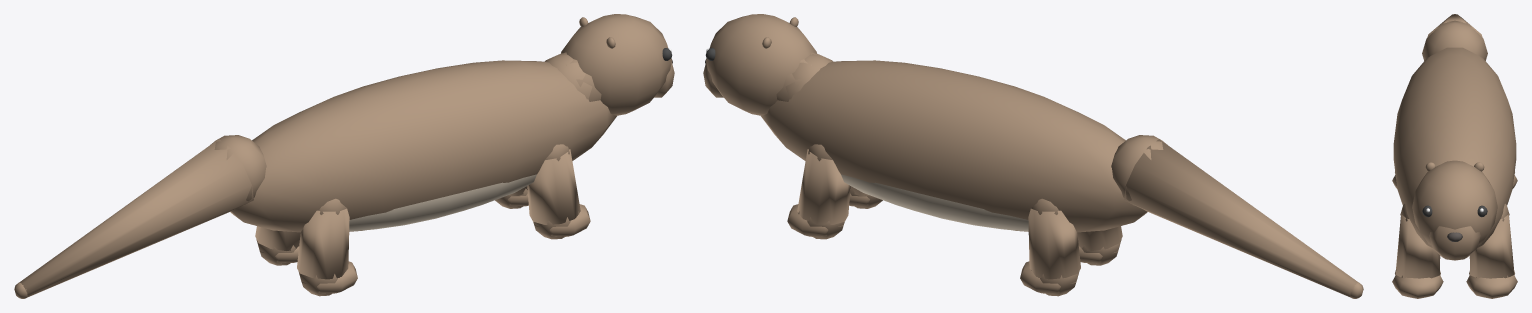
Rendered from eurasian-otter.glb.
3 views of the same model, side by side, from view 1: azimuth 30°, elevation 25°; view 2: azimuth 150°, elevation 25°; view 3: azimuth 270°, elevation 25° (orthographic). The views are drawn at different scales.
Visible parts, largest first — view 1: e, e.025, e.016; view 2: e, e.025, e.016; view 3: e, e.016, e.025.
Part boxes in pixels (x1,y1,x2,y2): e: (230, 52, 616, 296); e.025: (14, 135, 266, 298); e.016: (561, 14, 674, 115); e: (761, 52, 1147, 296); e.025: (1111, 135, 1363, 298); e.016: (703, 14, 816, 115); e: (1392, 47, 1517, 298); e.016: (1412, 160, 1497, 260); e.025: (1422, 14, 1487, 60).
Size of the model in its own units: 1.64 by 0.4375 by 0.305.
